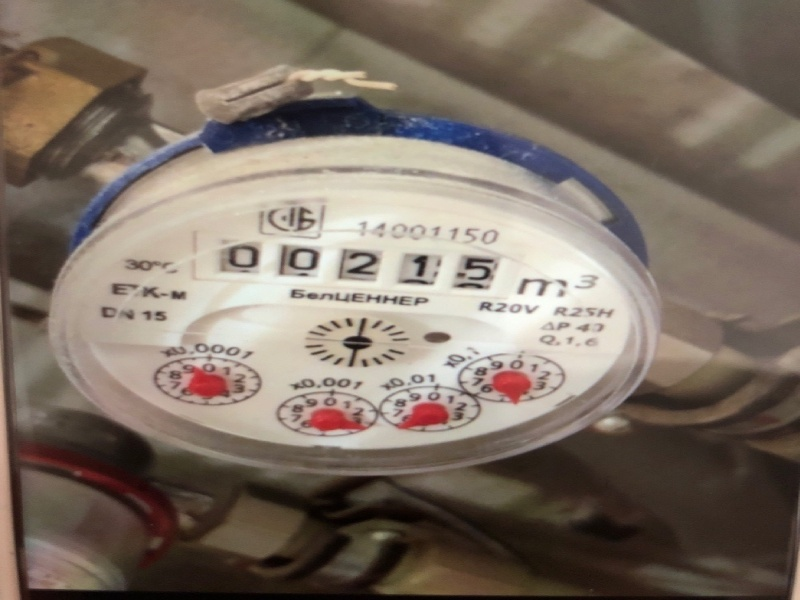meter: (208, 233, 496, 297)
